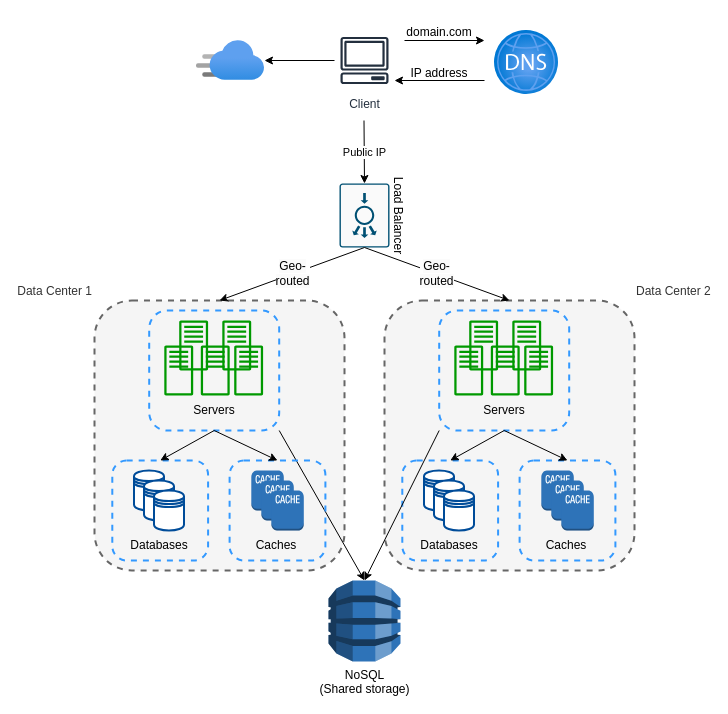
Some shapes in this 728 by 714 pixel diagram are drawn without their labels. The centre of each missing label's shape, as x and y in pixels:
CDN: pixel 230 60
DNS: pixel 526 62
